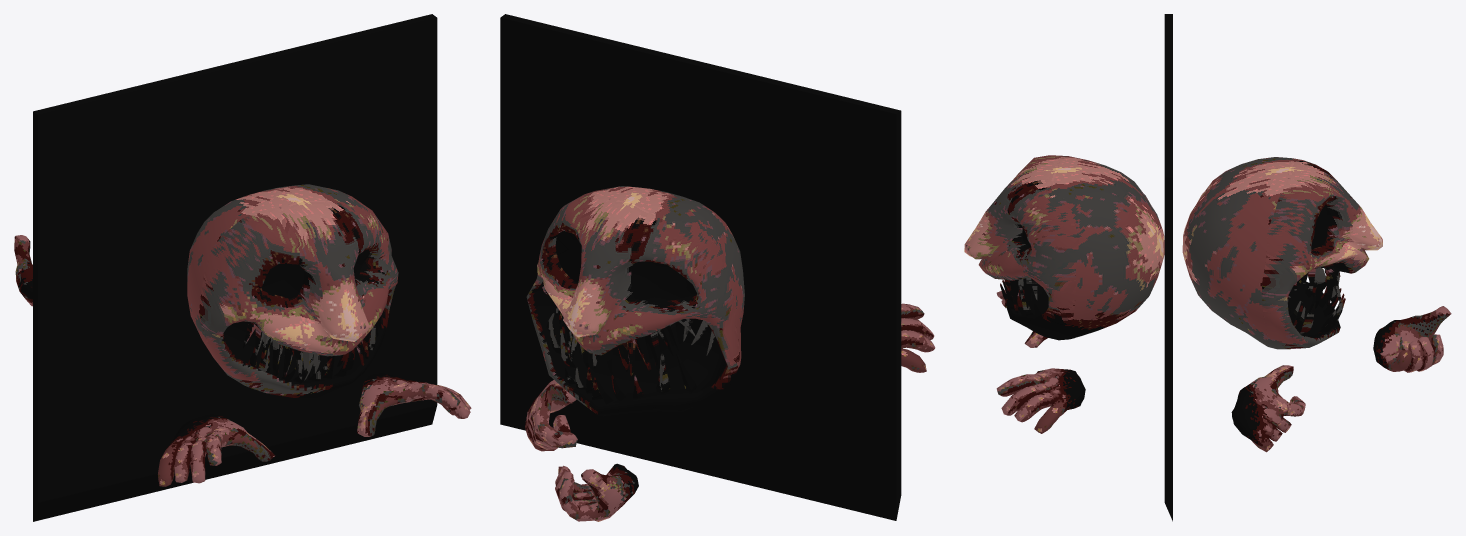
The model's file is dealer.glb.
The picture shows the model from 3 angles, left to right: view 1: azimuth 30°, elevation 25°; view 2: azimuth 150°, elevation 25°; view 3: azimuth 270°, elevation 25°; orthographic projection. The views are drawn at different scales.
Visible parts, largest first — view 1: The_Dealerobjcleanermaterialmergergles; view 2: The_Dealerobjcleanermaterialmergergles; view 3: The_Dealerobjcleanermaterialmergergles.
Part boxes in pixels (x1=…): The_Dealerobjcleanermaterialmergergles: x1=14, y1=14, x2=471, y2=521; The_Dealerobjcleanermaterialmergergles: x1=500, y1=14, x2=935, y2=521; The_Dealerobjcleanermaterialmergergles: x1=964, y1=14, x2=1451, y2=521.
Size of the model in its own units: 7.44 by 7.31 by 9.37.
1 material, 1 textured.
